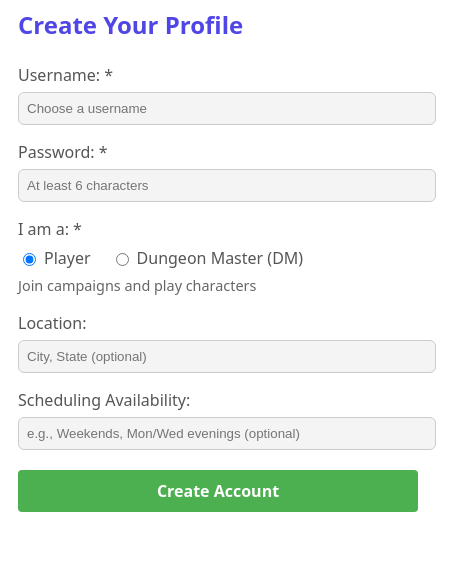
Test case: ProfileForm Component › submits successfully
Type "TestUser" into the field with placeholder "Choose a username" at (227, 108), box [18, 92, 436, 125]
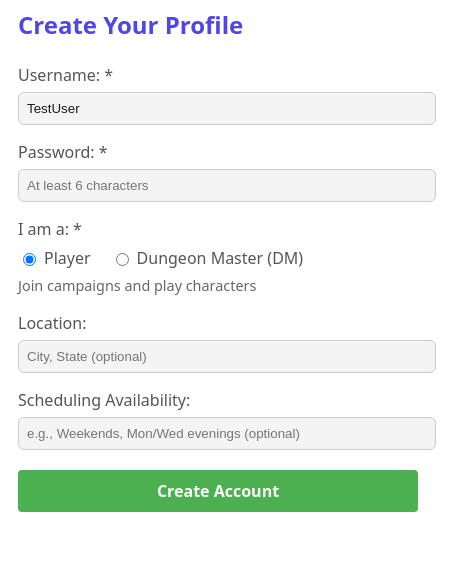
Type "123456" into the password field with placeholder "At least 6 characters" at (227, 185), box [18, 169, 436, 202]
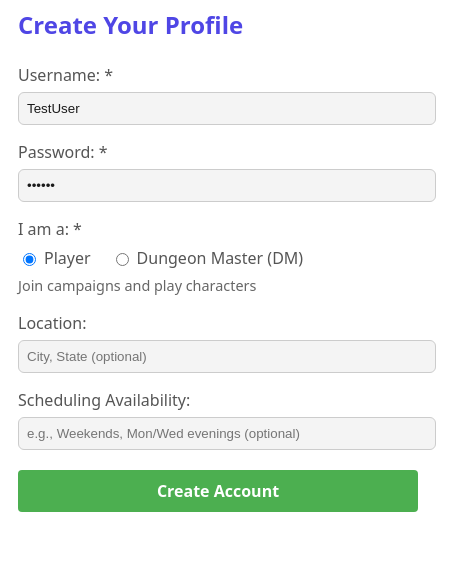
Click the button "Create Account" at (218, 491), box [18, 470, 418, 512]
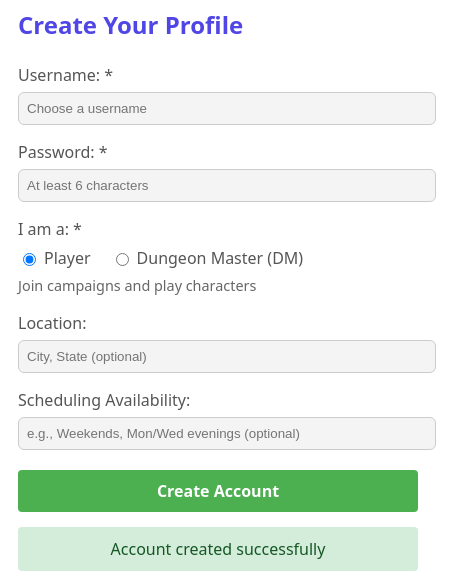
Now the text "Account created successfully" is shown, box [18, 527, 418, 571]
